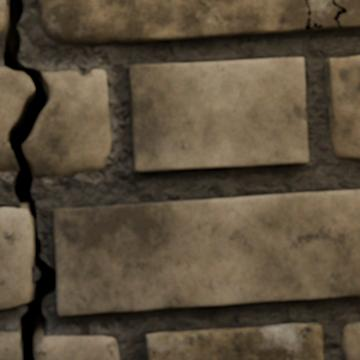brick: (52, 190, 359, 315), (129, 58, 308, 171), (39, 0, 307, 44), (147, 323, 322, 359), (326, 56, 359, 157), (0, 208, 31, 308), (308, 0, 338, 29), (336, 0, 359, 28), (343, 323, 359, 359), (0, 0, 5, 30)
broken_brick: (23, 68, 111, 178), (0, 66, 32, 172), (36, 335, 120, 359), (0, 331, 20, 359)
crack: (0, 0, 56, 359), (304, 0, 322, 30), (331, 0, 347, 28)
